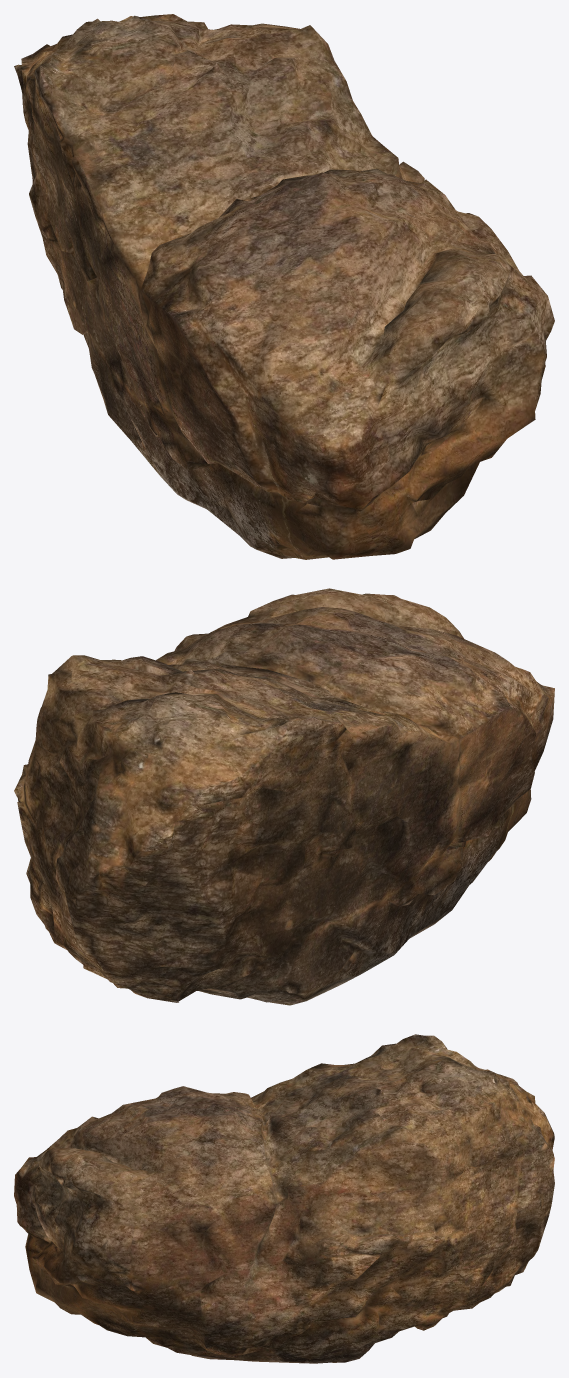
The model's file is boulder-e.glb.
3 views of the same model, one above another, from view 1: azimuth 30°, elevation 25°; view 2: azimuth 150°, elevation 25°; view 3: azimuth 270°, elevation 25° (orthographic). The views are drawn at different scales.
Visible parts, largest first — view 1: namaqualand_boulder_06; view 2: namaqualand_boulder_06; view 3: namaqualand_boulder_06.
Part boxes in pixels (bbox=[...]): namaqualand_boulder_06: bbox=[14, 14, 554, 559]; namaqualand_boulder_06: bbox=[14, 588, 554, 1005]; namaqualand_boulder_06: bbox=[14, 1034, 554, 1363].
Bounding box in the file's own units: 0.6736 × 0.6483 × 1.21.
1 material, 1 textured.
